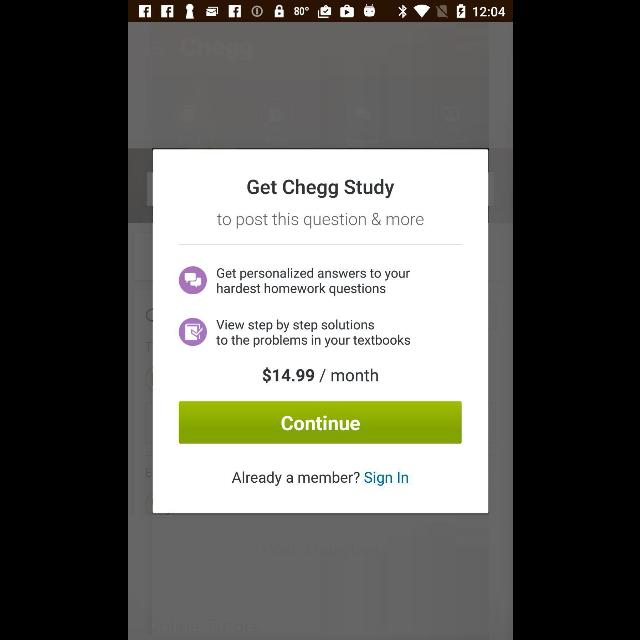icon: (178, 267, 206, 295)
image: (178, 318, 206, 346)
panel: (152, 150, 488, 514)
text: (216, 320, 410, 348), (217, 268, 409, 296), (216, 213, 422, 229), (247, 180, 393, 198), (231, 472, 407, 486)
textbutton: (178, 402, 460, 444)
uppertaskbar: (128, 1, 512, 23)
